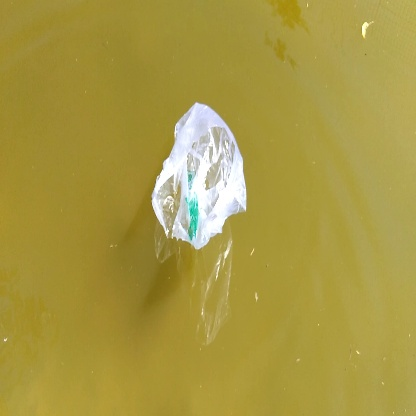plastic-bag: (144, 102, 259, 243)
